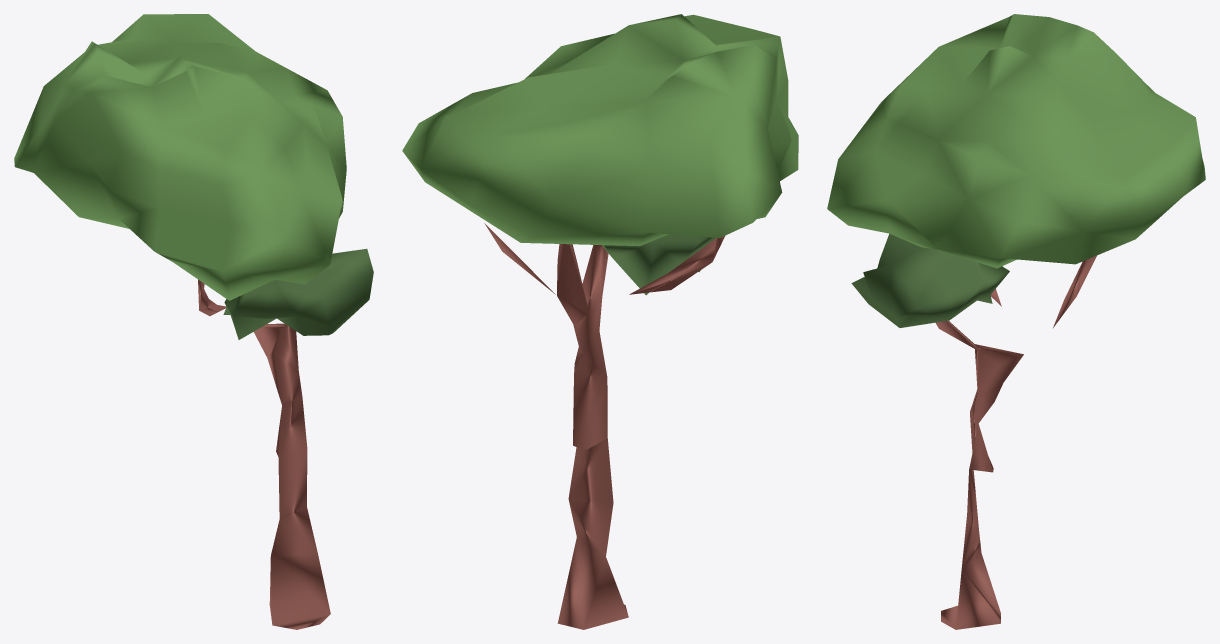
The model's file is CommonTree_4_lod.glb.
3 renders of one model, left to right at view 1: azimuth 30°, elevation 25°; view 2: azimuth 150°, elevation 25°; view 3: azimuth 270°, elevation 25°, orthographic. The views are drawn at different scales.
Parts seen in each view (by area): view 1: CommonTree_4; view 2: CommonTree_4; view 3: CommonTree_4.
Boxes of the visible parts, box(x1,y1,x2,y2) form: CommonTree_4: box(14, 14, 373, 629); CommonTree_4: box(402, 14, 798, 629); CommonTree_4: box(827, 14, 1205, 629).
Size of the model in its own units: 158 by 278 by 180.
